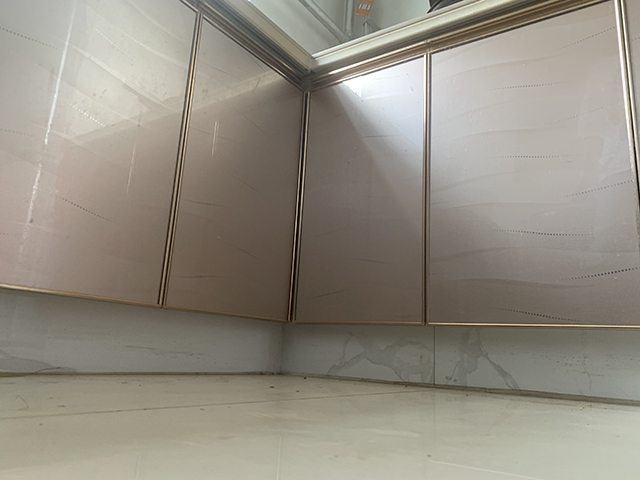cabinet: (302, 1, 639, 406), (1, 1, 312, 380)
